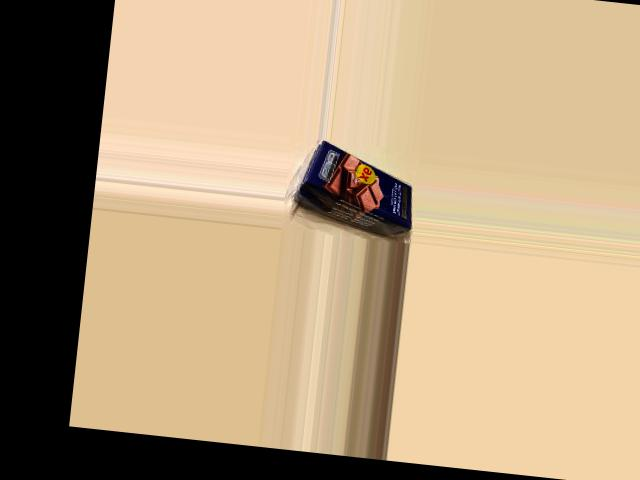chocolate: (299, 137, 419, 236)
